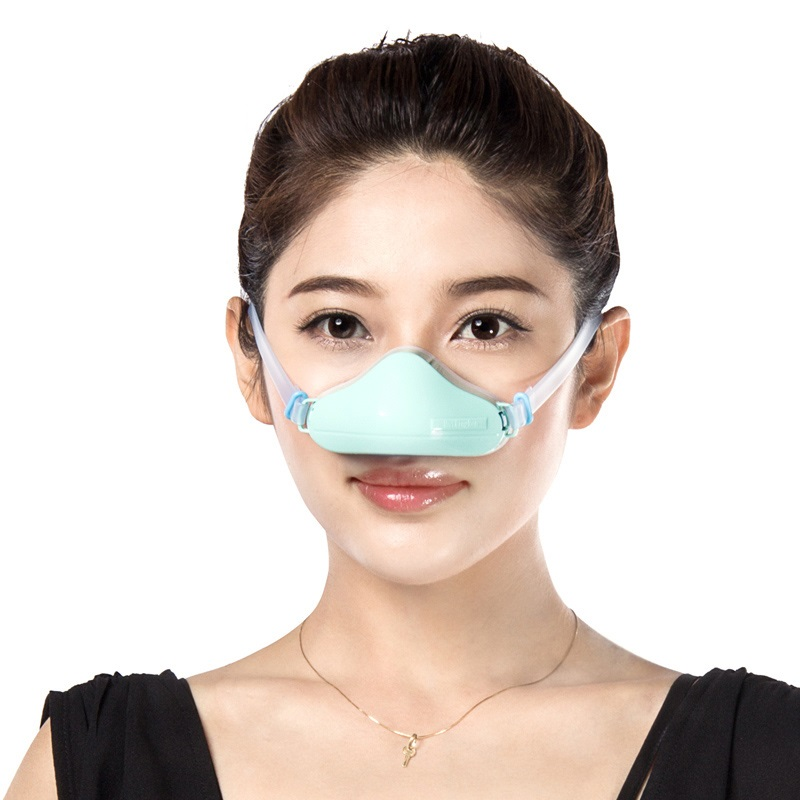face_mask: (264, 149, 578, 588)
